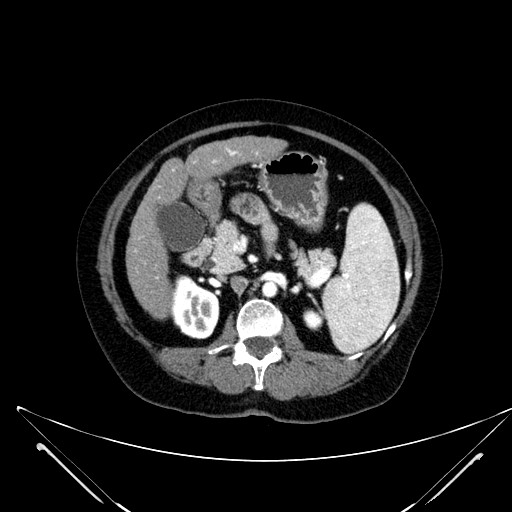vesicula: (153, 196, 210, 258)
